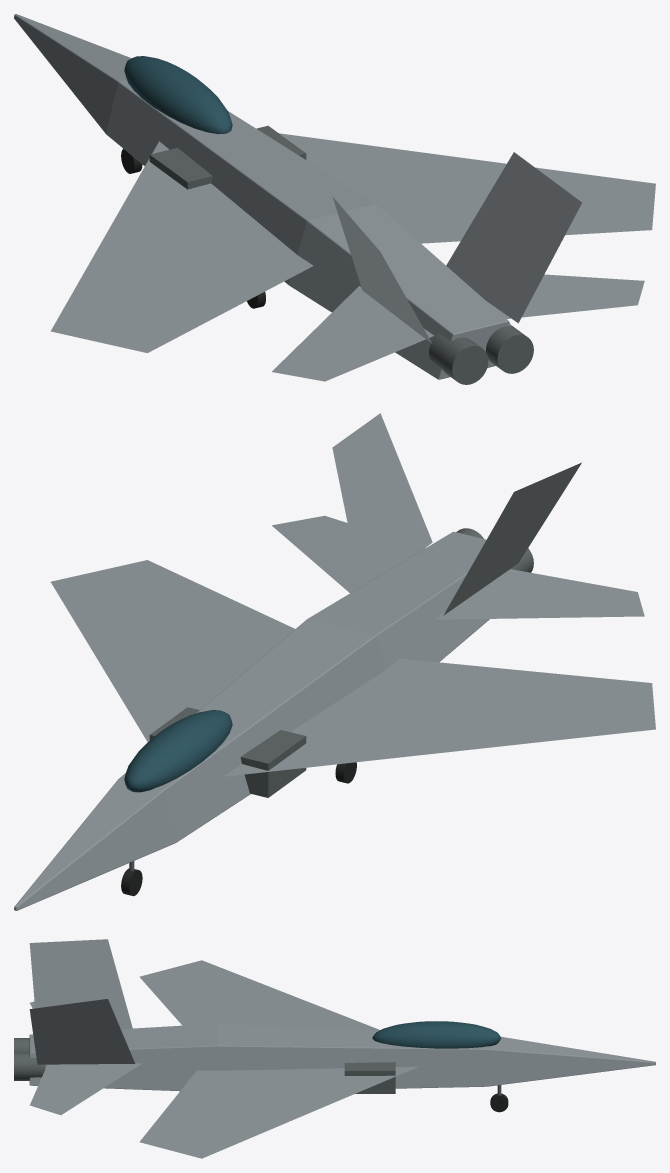
3 views of the same model, one above another, from view 1: azimuth 30°, elevation 25°; view 2: azimuth 150°, elevation 25°; view 3: azimuth 270°, elevation 25° (orthographic). The views are drawn at different scales.
Visible parts, largest first — view 1: Hull_MVP gray paint, Hull_MVP exposed metal, Hull_MVP optical glass, RunningGear_MVP rubber; view 2: Hull_MVP gray paint, Hull_MVP optical glass, Hull_MVP exposed metal, RunningGear_MVP rubber; view 3: Hull_MVP gray paint, Hull_MVP optical glass, Hull_MVP exposed metal.
Part boxes in pixels (<box>): Hull_MVP gray paint: <box>14,14,655,381</box>; Hull_MVP exposed metal: <box>149,125,533,384</box>; Hull_MVP optical glass: <box>124,56,232,134</box>; RunningGear_MVP rubber: <box>121,148,265,308</box>; Hull_MVP gray paint: <box>14,413,655,910</box>; Hull_MVP optical glass: <box>124,710,232,792</box>; Hull_MVP exposed metal: <box>149,528,533,797</box>; RunningGear_MVP rubber: <box>121,762,356,896</box>; Hull_MVP gray paint: <box>29,939,655,1158</box>; Hull_MVP optical glass: <box>372,1021,501,1048</box>; Hull_MVP exposed metal: <box>14,1038,395,1093</box>.
Size of the model in its own units: 12 by 4 by 16.4.
